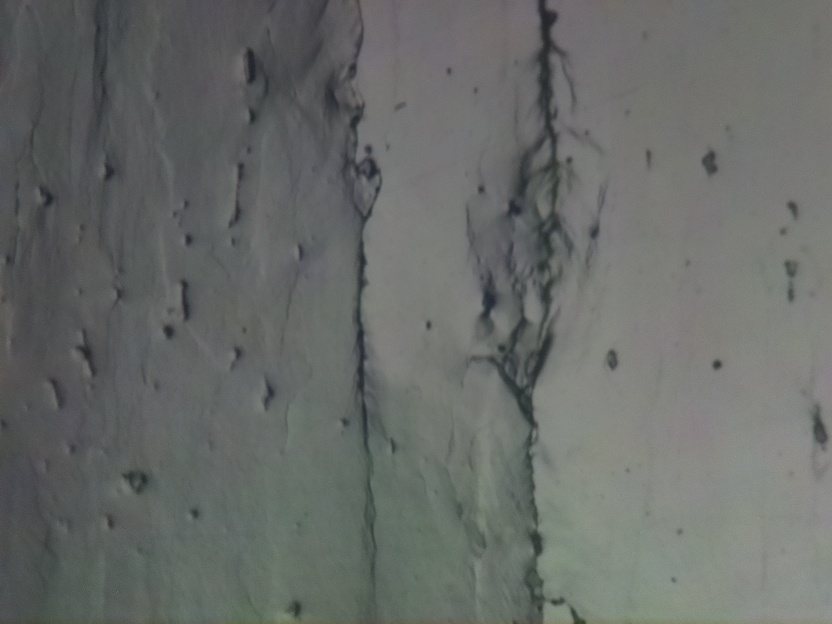crack: (490, 0, 567, 547), (349, 136, 378, 589)
